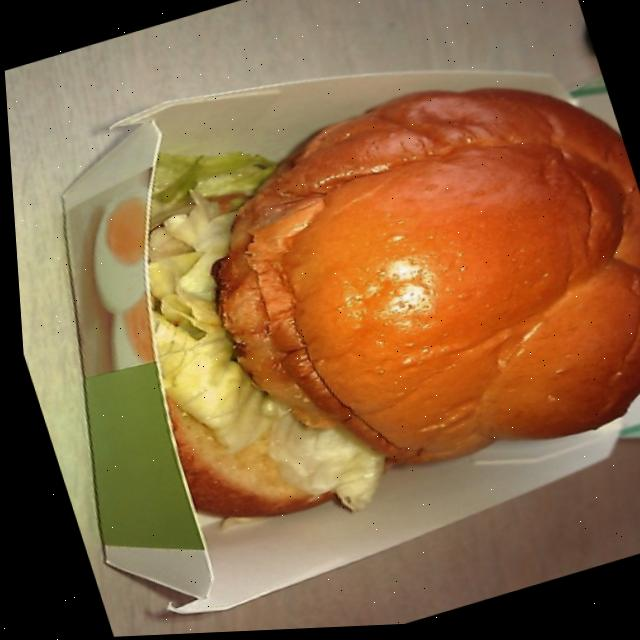汉堡快餐: (15, 0, 640, 590)
